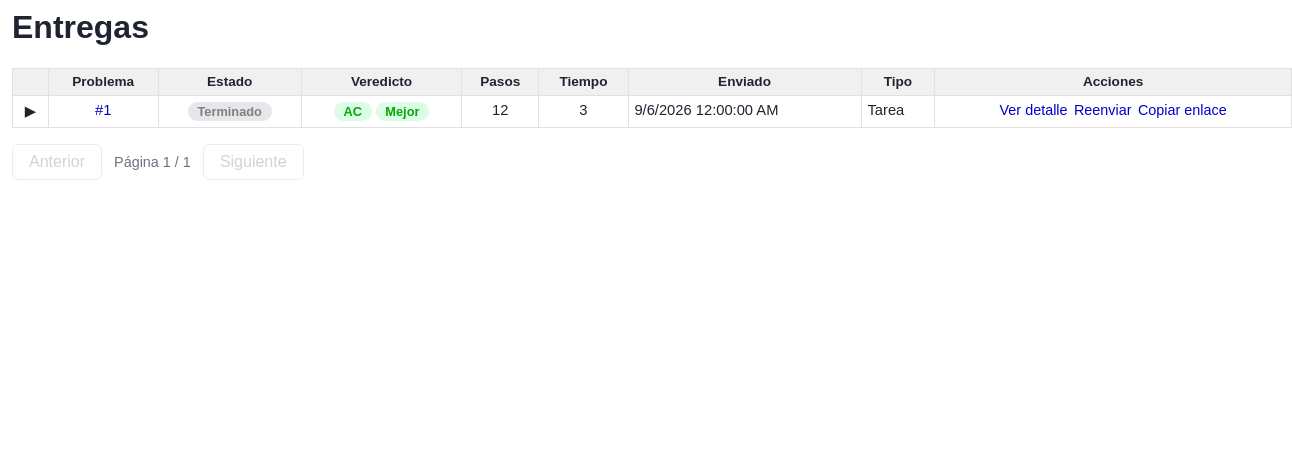
it: Codeforces-style inline expansion › expands from a row click and shows the per-case verdict table
The image size is (1292, 459).
Expected: the link "#1" is shown, [95,102,111,118]
Click the text "#1" at (652, 112), box [12,95,1291,128]
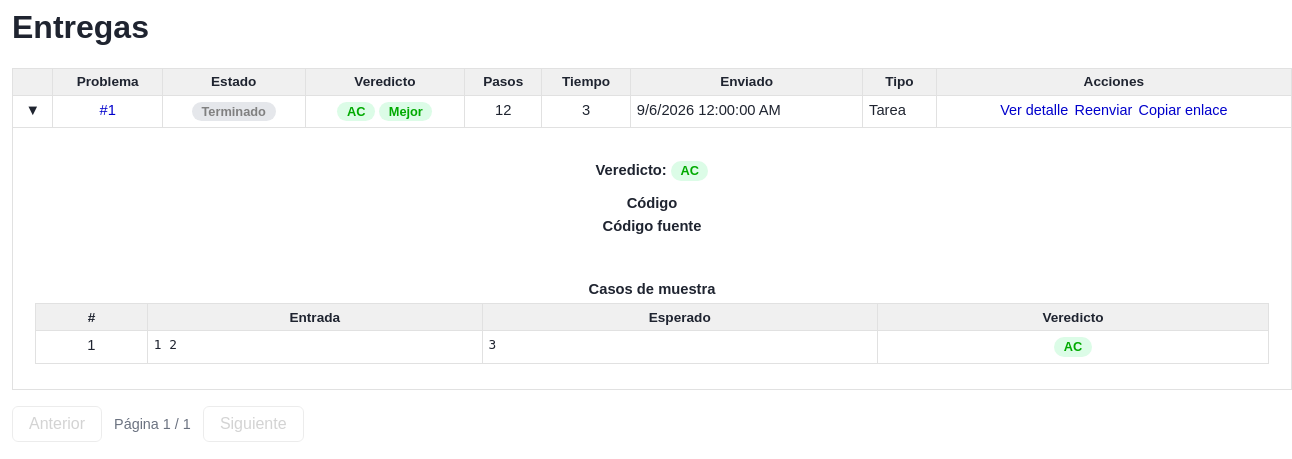
Expected: the text "3" in the row of "Terminado" is shown, [582,102,590,118]
Expected: the text "1 2" is shown, [154,337,177,352]
